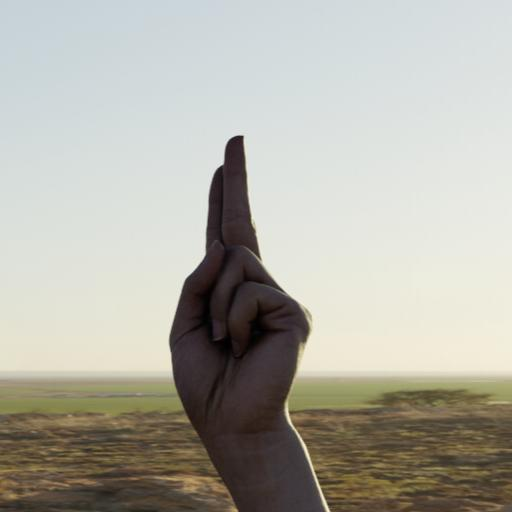U: (149, 116, 328, 451)
